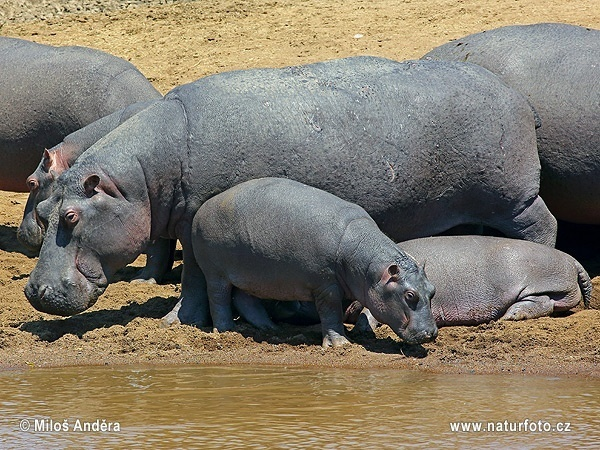hipopotamo: (21, 53, 563, 318), (175, 174, 445, 359), (372, 227, 594, 335)
